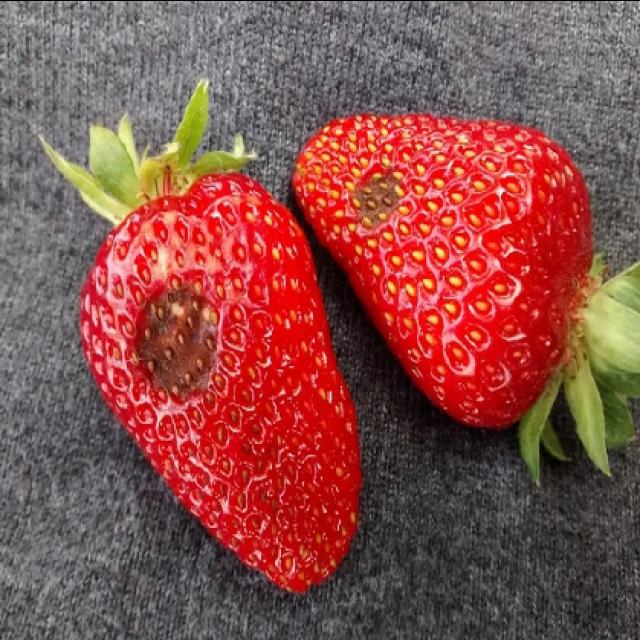Anthracnose Fruit Rot: (131, 271, 225, 411), (346, 159, 407, 237)
